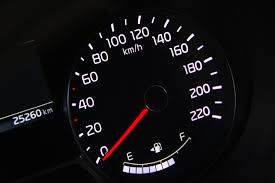Digital_Meter: (5, 111, 59, 126)
